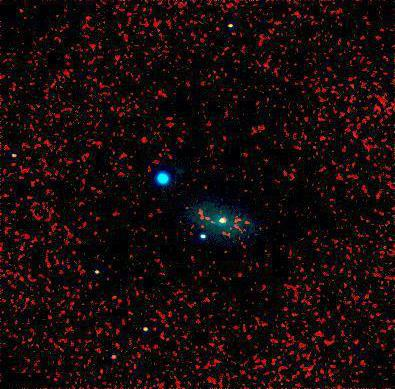star: (186, 211, 216, 241)
